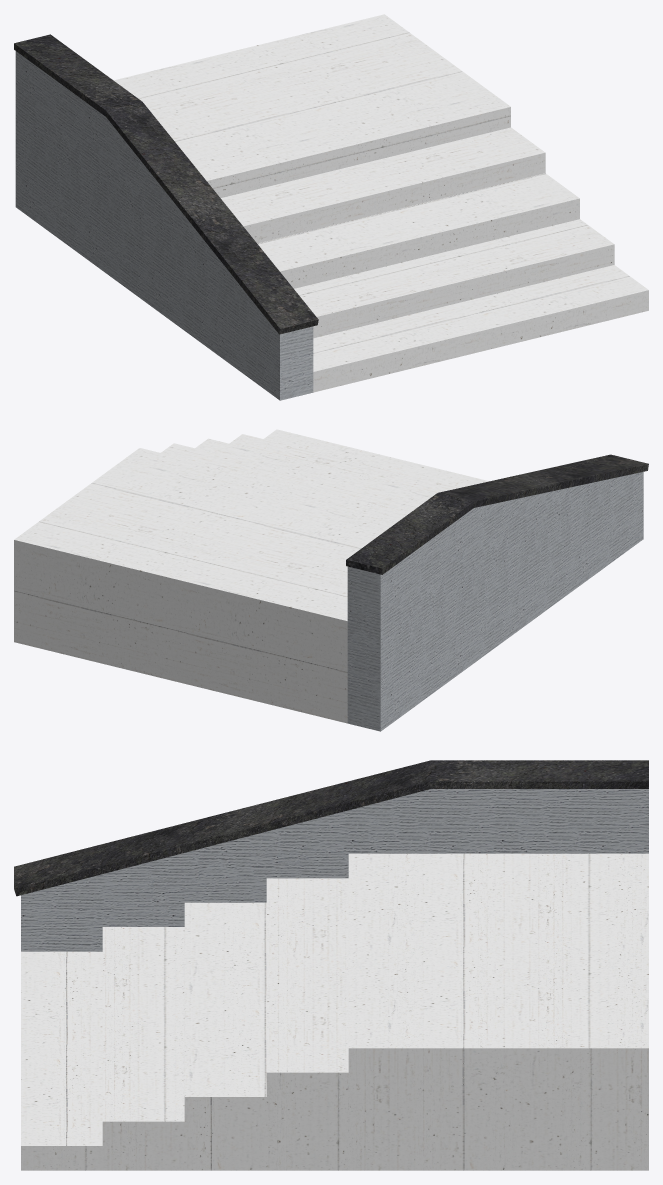
Rendered from OHstairsVariant0.glb.
3 renders of one model, top to bottom at view 1: azimuth 30°, elevation 25°; view 2: azimuth 150°, elevation 25°; view 3: azimuth 270°, elevation 25°, orthographic. The views are drawn at different scales.
Visible parts, largest first — view 1: Cube, Plane.003; view 2: Cube, Plane.003; view 3: Cube, Plane.003.
Boxes of the visible parts, left/top/right/bottom form: Cube: left=114, top=14, right=648, bottom=392; Plane.003: left=14, top=34, right=318, bottom=400; Cube: left=14, top=429, right=488, bottom=723; Plane.003: left=346, top=454, right=648, bottom=731; Cube: left=21, top=853, right=648, bottom=1170; Plane.003: left=14, top=760, right=648, bottom=951.
Size of the model in its own units: 2.49 by 1.05 by 3.1.
3 materials, 3 textured.
